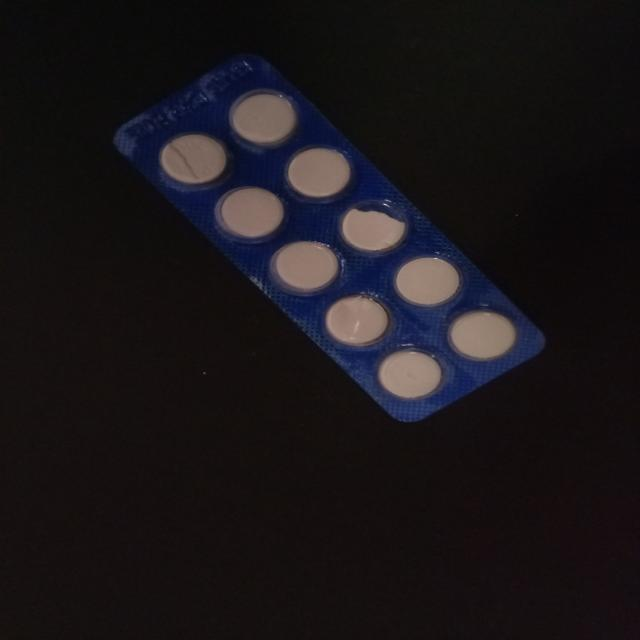defect: (156, 130, 234, 193), (336, 198, 414, 256)
